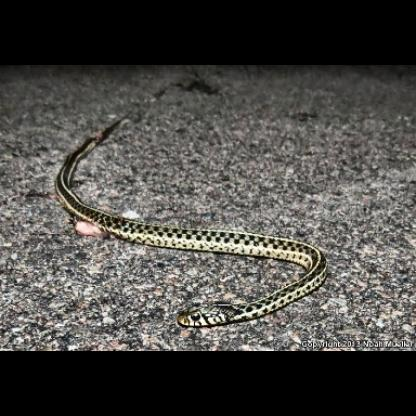Snake: (54, 118, 332, 330)
